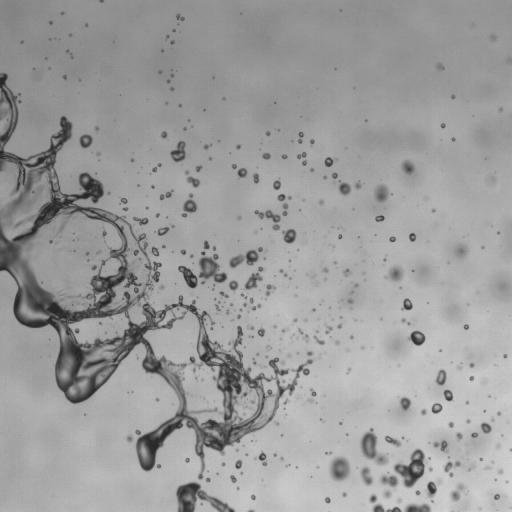droplet: (178, 241, 227, 288), (360, 428, 390, 465), (328, 456, 350, 481), (181, 193, 197, 217), (170, 141, 185, 162), (450, 483, 467, 501), (443, 461, 461, 477), (385, 266, 404, 281), (277, 194, 290, 215), (374, 184, 390, 201), (359, 466, 373, 485), (408, 330, 425, 345), (282, 229, 296, 243), (79, 134, 92, 148), (401, 160, 414, 174), (338, 181, 351, 195), (435, 369, 446, 385), (433, 441, 448, 452), (455, 245, 468, 256), (400, 397, 411, 410), (256, 452, 267, 465), (401, 298, 412, 310), (265, 284, 275, 296), (443, 389, 453, 401), (297, 152, 306, 165), (324, 157, 335, 167), (431, 403, 442, 413), (481, 422, 491, 433), (156, 227, 169, 235), (237, 168, 247, 178), (229, 280, 238, 291), (273, 179, 281, 189), (151, 247, 159, 256), (325, 324, 332, 334), (383, 490, 391, 498), (487, 176, 496, 183), (235, 459, 242, 468), (253, 173, 259, 183), (354, 181, 361, 189), (343, 268, 350, 276), (258, 328, 265, 336), (375, 215, 384, 221), (126, 435, 133, 442), (262, 153, 270, 159), (409, 233, 415, 241), (220, 291, 228, 297), (456, 432, 462, 440), (176, 14, 183, 20), (437, 63, 443, 70), (161, 131, 167, 138), (230, 475, 236, 482), (389, 236, 395, 242), (195, 166, 202, 171), (120, 198, 127, 203), (281, 327, 288, 332), (204, 144, 210, 149), (332, 172, 337, 178), (347, 298, 353, 303), (215, 303, 220, 309), (283, 398, 288, 404), (421, 409, 426, 415), (471, 432, 477, 437), (494, 494, 499, 500), (325, 497, 330, 503), (181, 249, 186, 254), (323, 267, 328, 272), (241, 293, 246, 298), (448, 422, 453, 427), (205, 477, 210, 482), (247, 325, 253, 329), (252, 359, 256, 365), (491, 35, 495, 40), (94, 126, 98, 131), (265, 131, 270, 135), (310, 139, 314, 144), (236, 144, 240, 149), (159, 285, 164, 289), (337, 323, 341, 328), (464, 324, 468, 329), (335, 340, 339, 345), (469, 363, 474, 367), (498, 469, 503, 473), (415, 490, 419, 495), (342, 492, 346, 497), (441, 123, 445, 127), (282, 154, 286, 158), (130, 158, 134, 162), (232, 164, 236, 168), (319, 200, 323, 204), (123, 206, 127, 210), (96, 250, 100, 254), (354, 283, 358, 287), (293, 318, 297, 322), (457, 365, 461, 369), (469, 376, 473, 380), (466, 419, 470, 423), (496, 444, 500, 448), (185, 458, 189, 462), (221, 462, 225, 466), (251, 495, 255, 499), (397, 498, 401, 502), (485, 466, 490, 469), (170, 40, 174, 43), (451, 95, 455, 98), (155, 213, 159, 216), (338, 235, 342, 238), (50, 238, 53, 242), (190, 254, 193, 258), (237, 314, 240, 318), (267, 345, 270, 349), (503, 354, 507, 357), (347, 369, 350, 373), (497, 411, 500, 415), (326, 452, 330, 455), (429, 467, 432, 471), (63, 75, 66, 78), (170, 87, 173, 90), (452, 137, 455, 140), (310, 168, 313, 171), (212, 247, 215, 250), (226, 310, 229, 313), (350, 335, 353, 338), (155, 398, 158, 401), (275, 422, 278, 425), (99, 0, 103, 2), (166, 35, 168, 38), (167, 80, 170, 82), (499, 108, 502, 110), (97, 152, 99, 155), (432, 209, 435, 211), (238, 216, 240, 219), (481, 246, 484, 248), (86, 252, 88, 255), (66, 281, 69, 283), (230, 303, 232, 306), (316, 330, 318, 333), (466, 401, 468, 404), (273, 454, 276, 456), (280, 457, 283, 459), (67, 50, 69, 52), (159, 71, 161, 73), (171, 74, 173, 76), (171, 225, 173, 227), (384, 258, 386, 260), (312, 275, 314, 277), (99, 322, 101, 324), (291, 335, 293, 337), (288, 354, 290, 356), (195, 377, 197, 379), (480, 458, 482, 460), (237, 487, 239, 489)
ligament: (0, 73, 312, 479), (379, 448, 429, 488), (176, 481, 235, 511), (369, 494, 431, 511), (229, 247, 262, 268), (254, 210, 280, 230), (243, 266, 264, 290), (426, 479, 441, 502), (185, 170, 199, 187), (385, 436, 401, 447), (298, 329, 309, 341), (307, 388, 316, 402), (133, 217, 148, 225), (313, 335, 324, 345), (160, 191, 172, 199), (243, 298, 253, 307), (152, 163, 161, 172), (250, 303, 261, 310), (101, 225, 106, 238), (298, 132, 303, 143), (280, 269, 287, 276), (401, 318, 409, 324), (468, 464, 474, 471), (16, 221, 23, 225), (248, 509, 254, 511), (510, 448, 511, 451)
